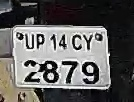1: (49, 33, 58, 52)
2: (20, 59, 41, 82)
4: (58, 34, 67, 52)
7: (60, 60, 79, 86)
8: (43, 60, 60, 84)
9: (80, 60, 101, 86)
C: (70, 34, 83, 52)
P: (35, 32, 46, 52)
U: (24, 33, 35, 51)
Y: (81, 33, 94, 51)
